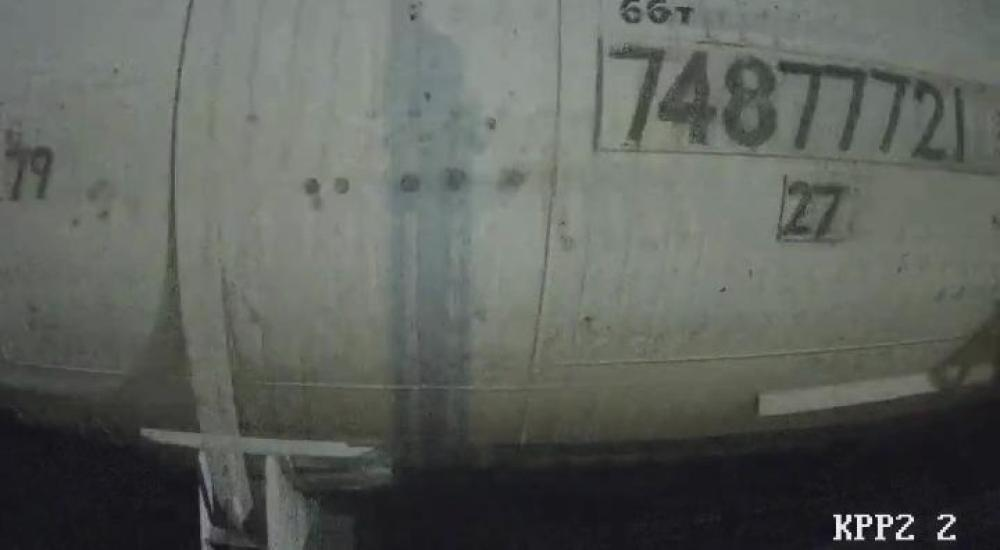Wagon-number: (608, 40, 976, 170)
